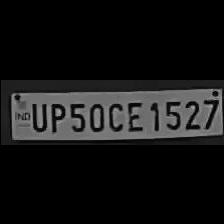0: (86, 98, 104, 132)
1: (144, 97, 160, 130)
2: (182, 96, 200, 130)
5: (160, 96, 182, 130), (66, 98, 86, 132)
7: (200, 95, 218, 129)
C: (104, 98, 124, 132)
E: (123, 97, 143, 131)
P: (46, 98, 64, 132)
U: (26, 98, 46, 132)
